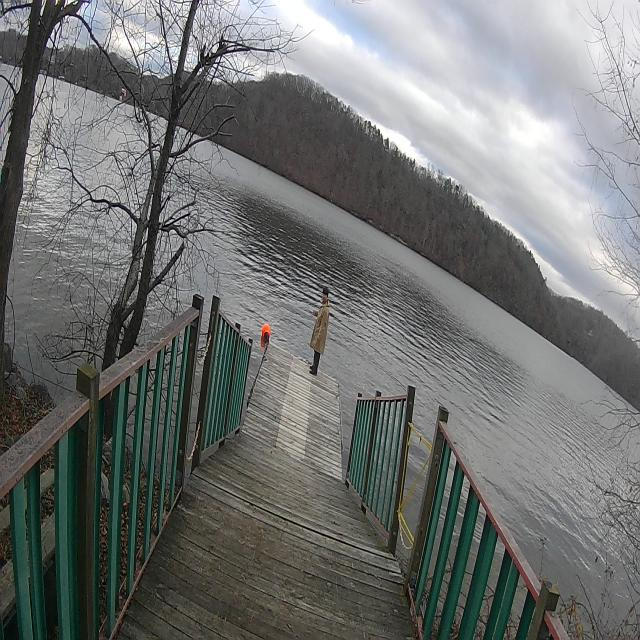Buoy: (260, 320, 273, 347)
